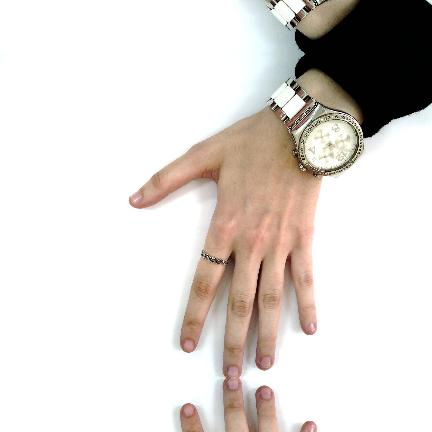Nail: (129, 189, 142, 205), (259, 356, 271, 368), (259, 388, 271, 400), (183, 340, 194, 353), (183, 403, 194, 416), (227, 367, 239, 378), (227, 378, 239, 389), (308, 323, 316, 332), (308, 424, 316, 432)
